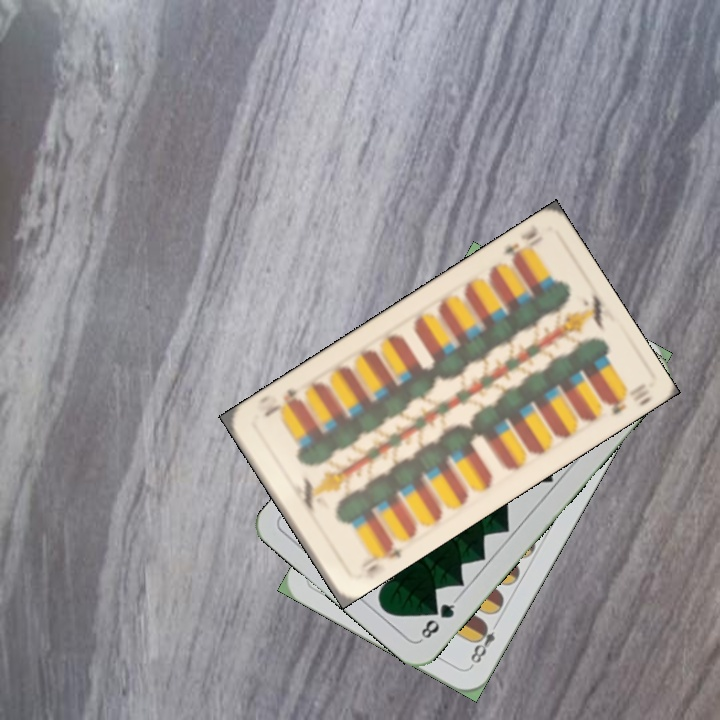E10: (351, 536, 405, 582), (499, 222, 541, 267)
E8: (466, 616, 502, 670)
G8: (416, 595, 460, 643)
